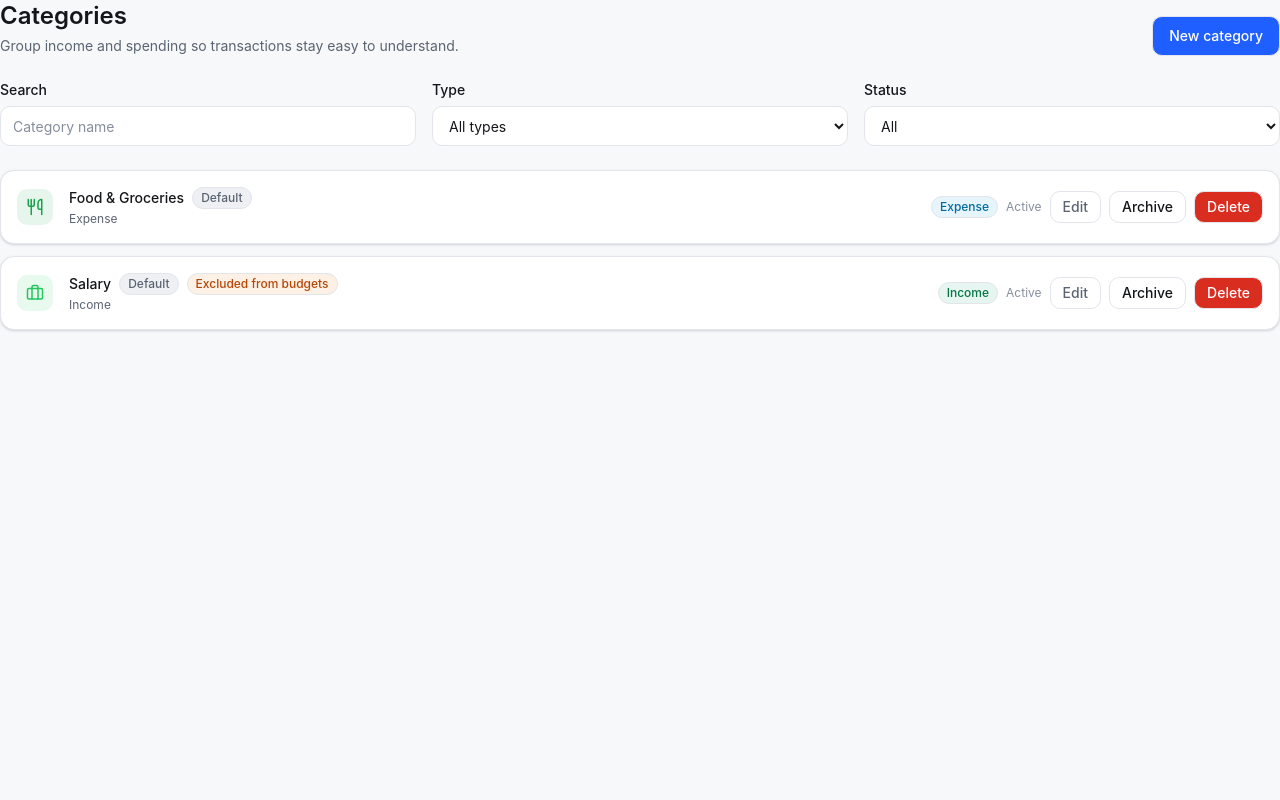
Test: CategoriesPage › opens the create modal
The image size is (1280, 800).
Click the button "New category" at (1216, 36), box [1152,16,1279,56]
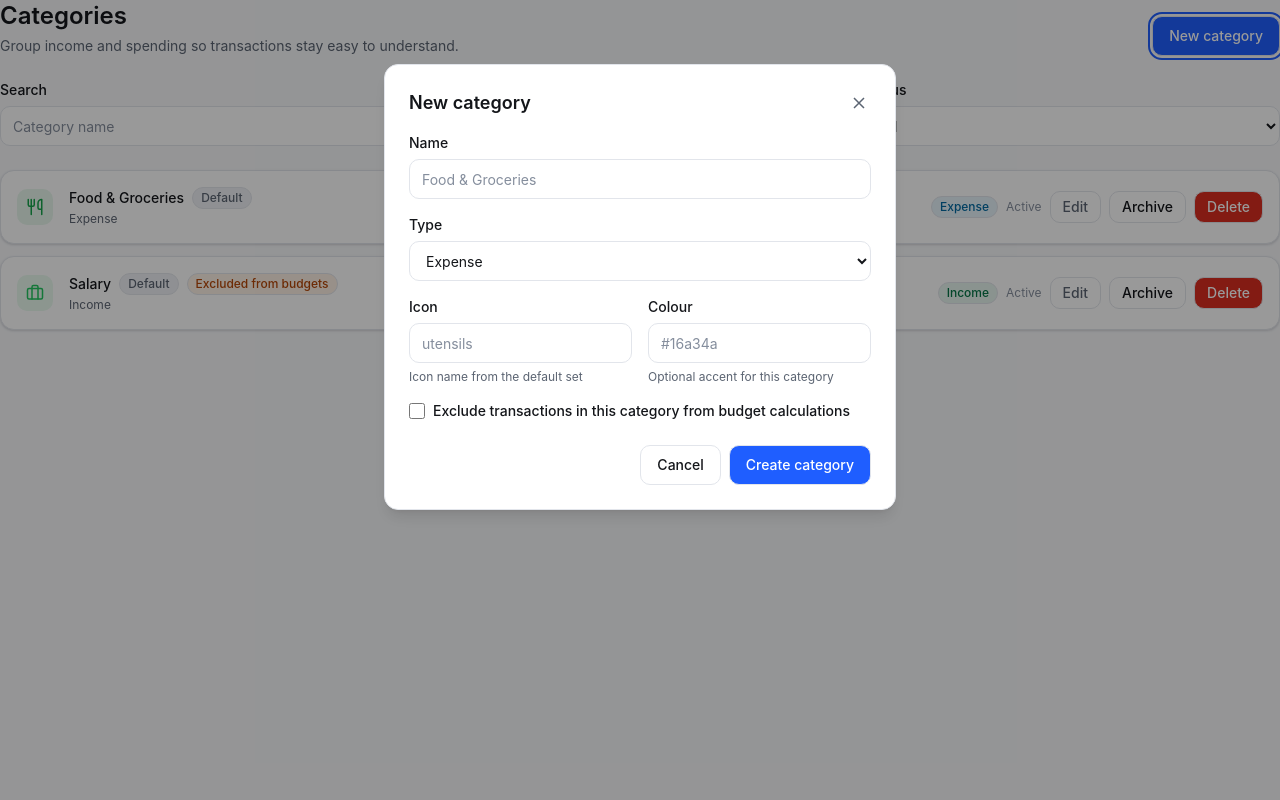
Expected: the dialog "New category" is shown, [384,64,896,510]
Expected: the field labelled "Name" is shown, [409,159,871,199]
Expected: the dropdown labelled "Type" is shown, [409,241,871,281]
